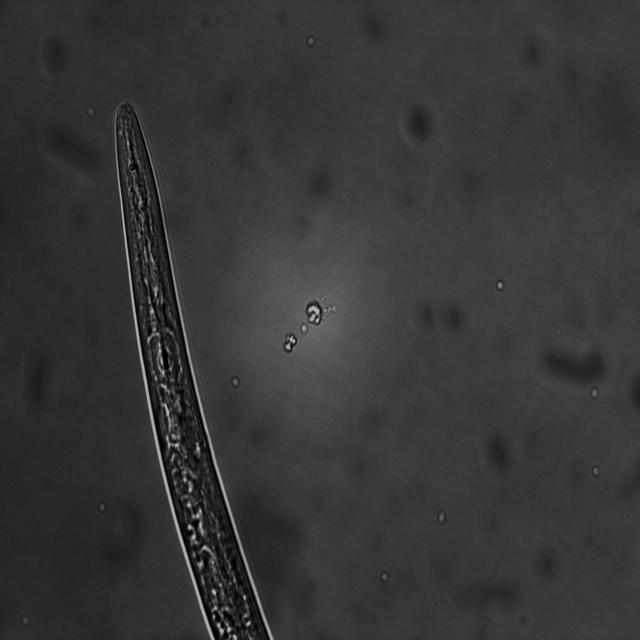Meloidogyne: (103, 99, 288, 640)
